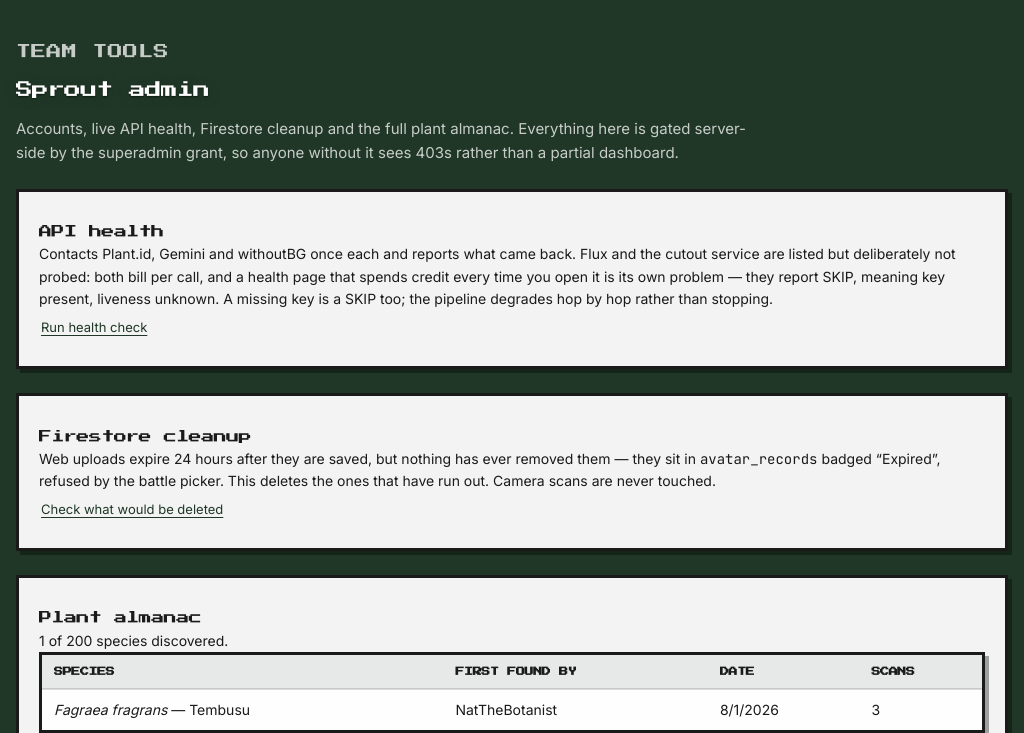
AdminPage operations panels › probes API health on request rather than on load
The image size is (1024, 733).
Click the button "Run health check": (94, 328) [39,310,149,346]
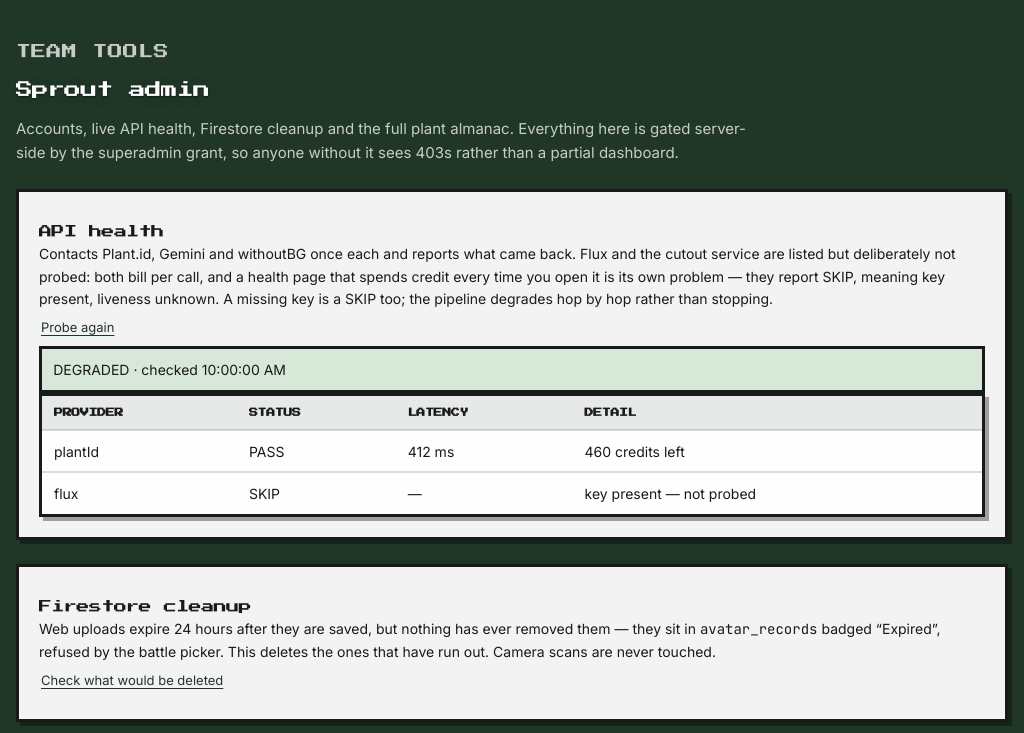
Expected: the text "plantId" is shown, [42,431,237,472]
Expected: the text "460 credits left" is shown, [572,431,982,472]
Expected: the text "412 ms" is shown, [396,431,572,472]
